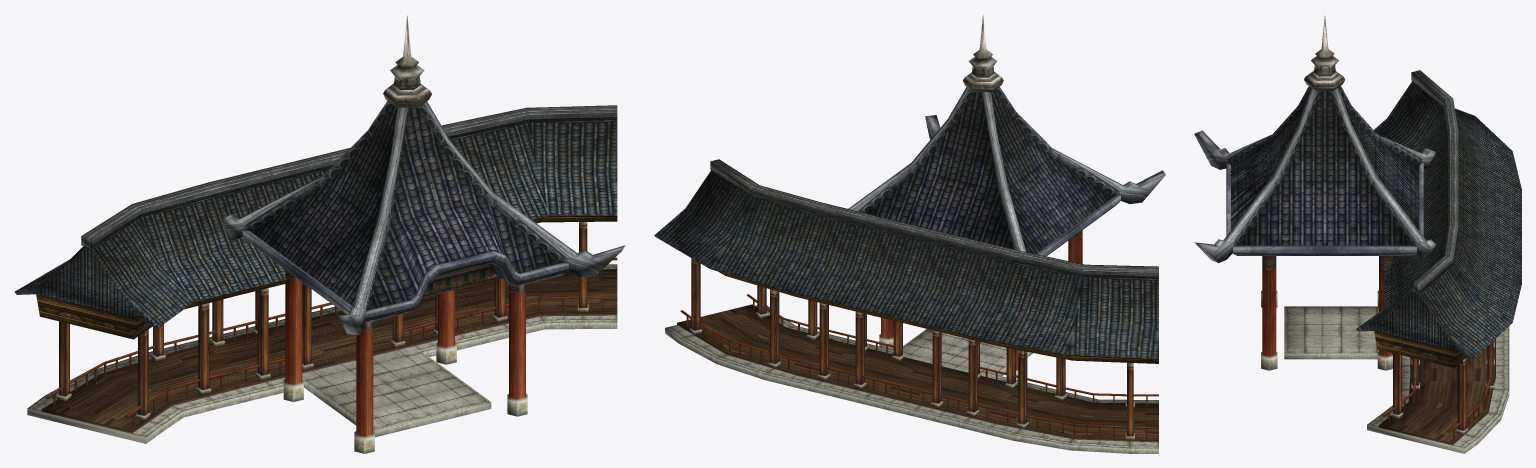
Rendered from b-general_external01.fbx.
3 renders of one model, left to right at view 1: azimuth 30°, elevation 25°; view 2: azimuth 150°, elevation 25°; view 3: azimuth 270°, elevation 25°, orthographic. The views are drawn at different scales.
Visible parts, largest first — view 1: B-general_external01, B-general_external02; view 2: B-general_external01, B-general_external02; view 3: B-general_external01, B-general_external02.
Boxes of the visible parts, x1,y1,x2,y2 form: B-general_external01: (14, 105, 617, 443); B-general_external02: (221, 15, 625, 453); B-general_external01: (654, 159, 1158, 453); B-general_external02: (848, 15, 1165, 379); B-general_external01: (1284, 70, 1521, 453); B-general_external02: (1194, 15, 1435, 370).
Bounding box in the file's own units: 60.98 × 37.85 × 34.93.
